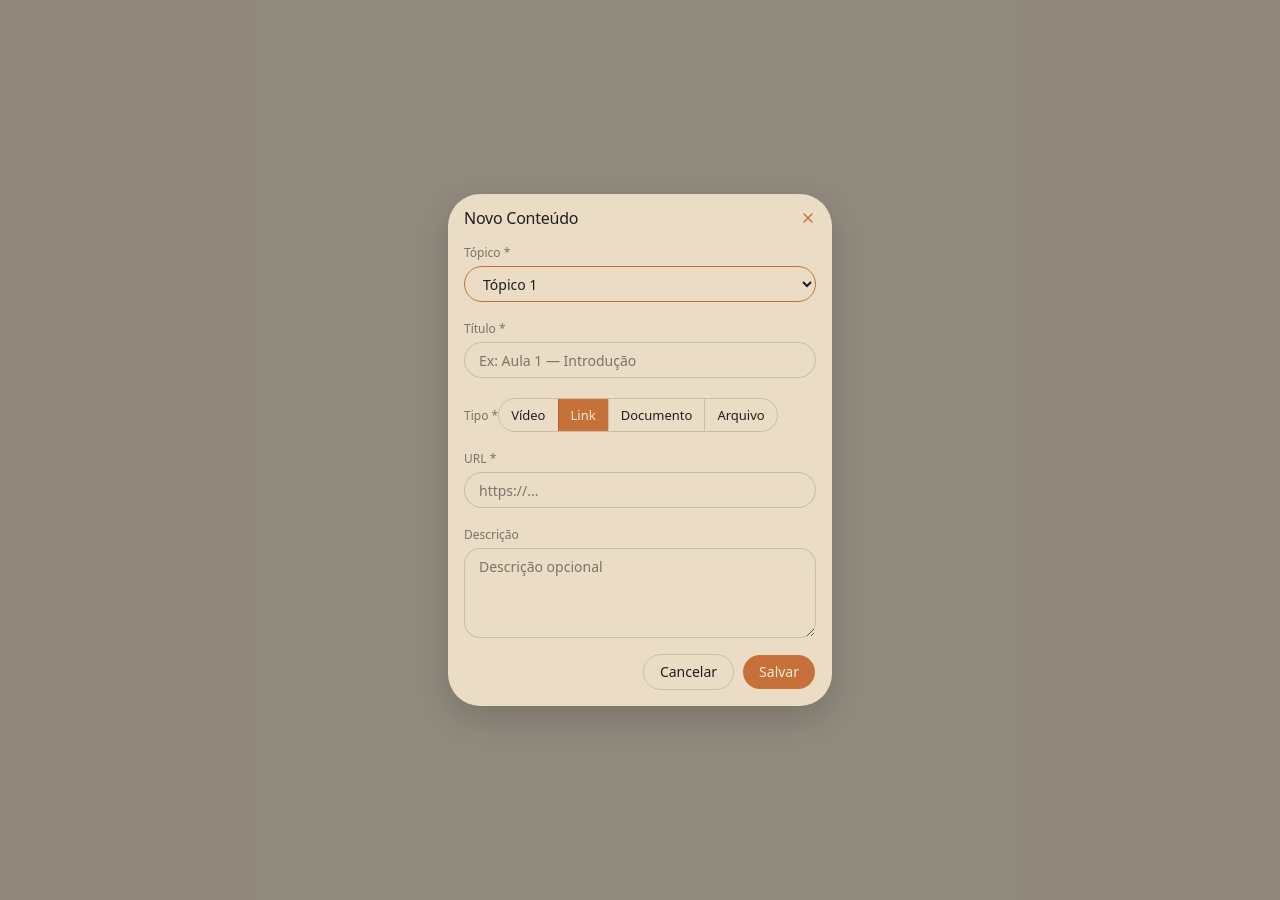
ContentFormDialog › shows file input when DOCUMENTO type is selected
Click the radio button labelled "Documento": (656, 415) [608,399,704,431]
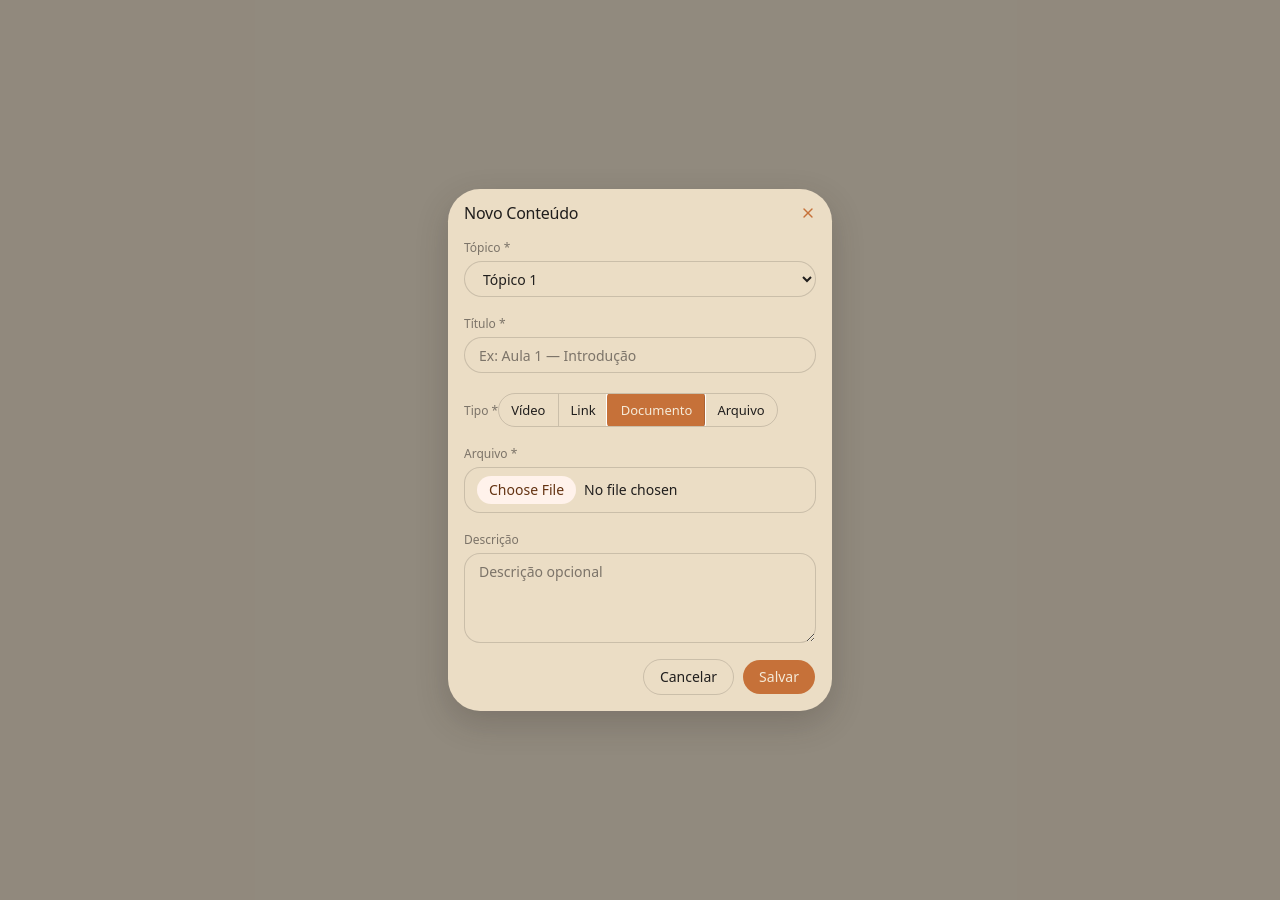
Expected: the field with placeholder "https" is not shown
Expected: the file field is shown, [464,467,816,513]
